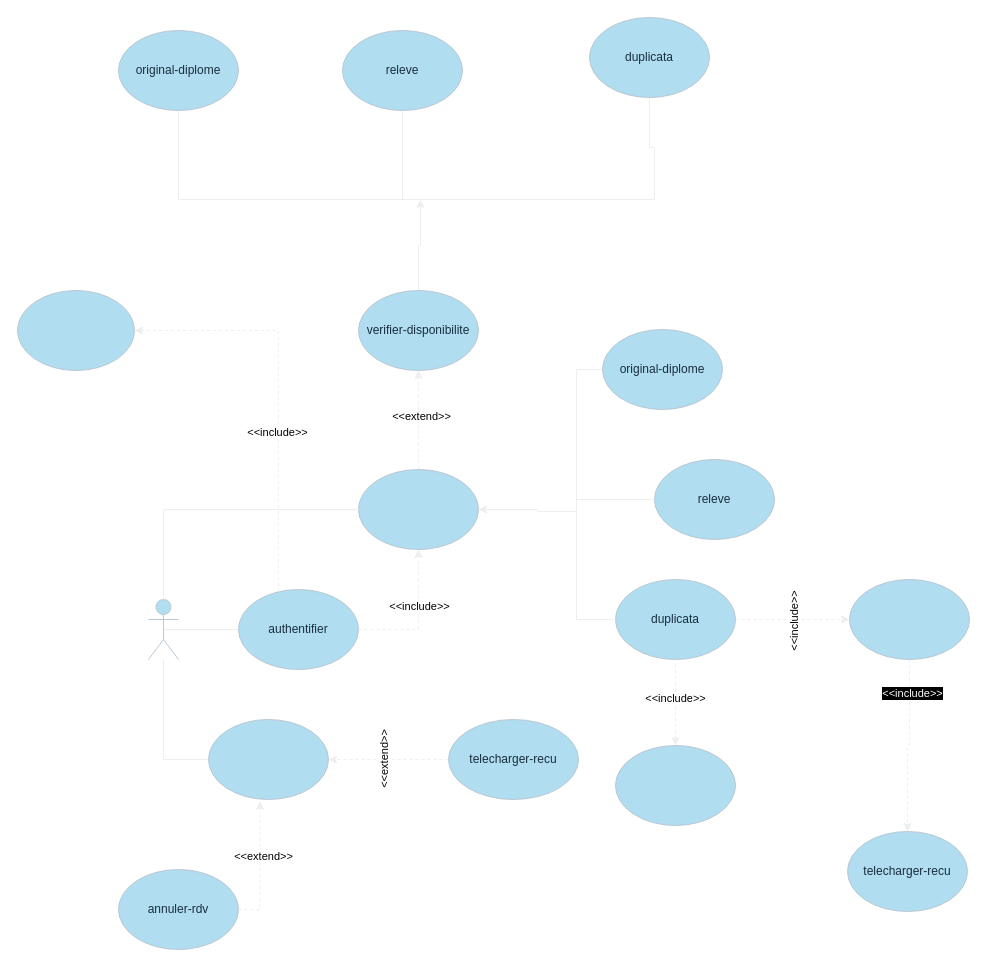
Image size: 987x967. Some labels were removed from this diagram. The centre of each missing label's shape, as x and y in pixels:
"consultater-via-QRcode" goes at point 75,330.
"effectuer-demande-retrait" goes at point 418,509.
"effectuer-payement" goes at point 909,619.
"eleve" goes at point 163,629.
"prendre-rdv" goes at point 268,759.
"remplir-formulaire" goes at point 675,785.
